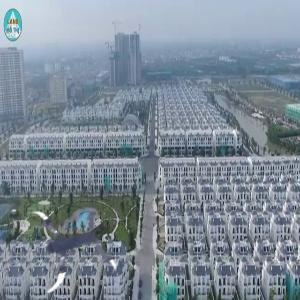drone: (17, 199, 114, 296)
